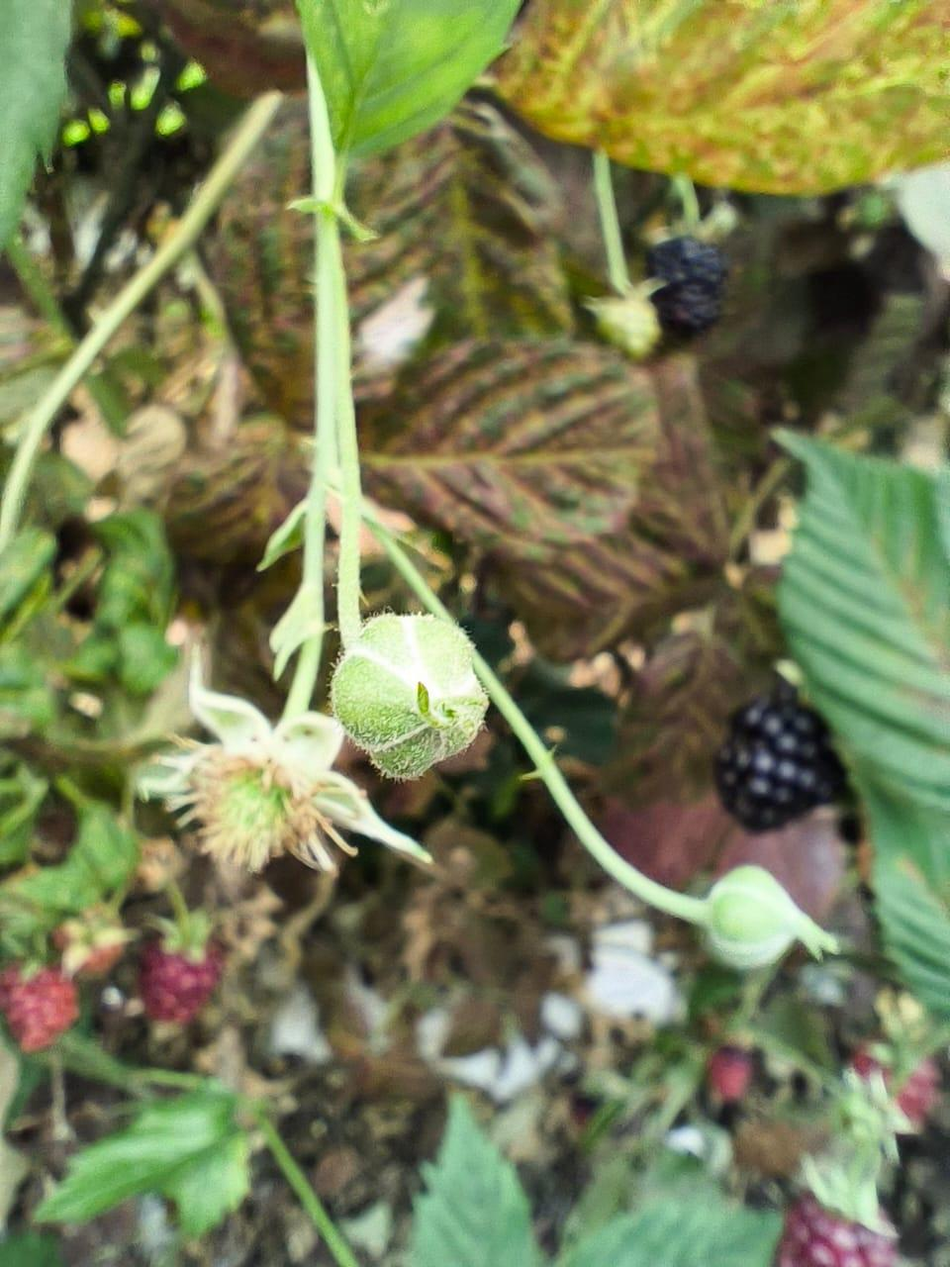boton: (331, 614, 488, 779), (706, 865, 836, 969)
